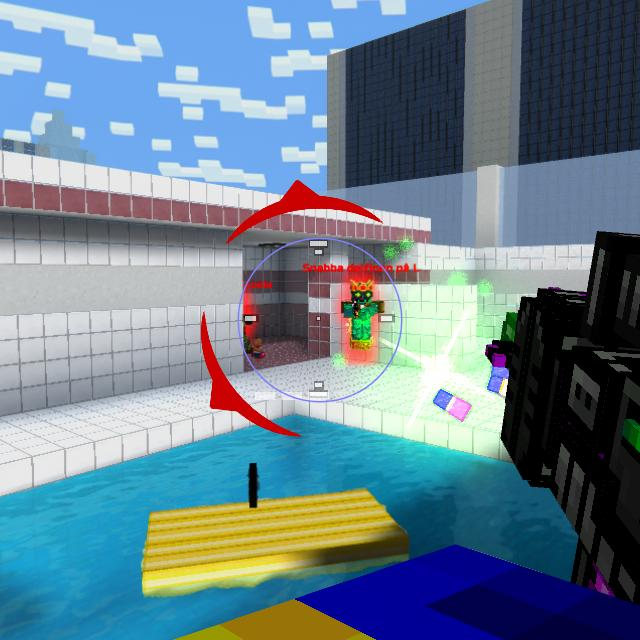Enemy: (341, 283, 384, 350), (243, 313, 254, 354)
